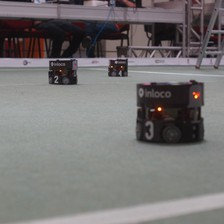robot: (135, 79, 205, 145), (47, 58, 78, 85), (106, 57, 129, 77)
